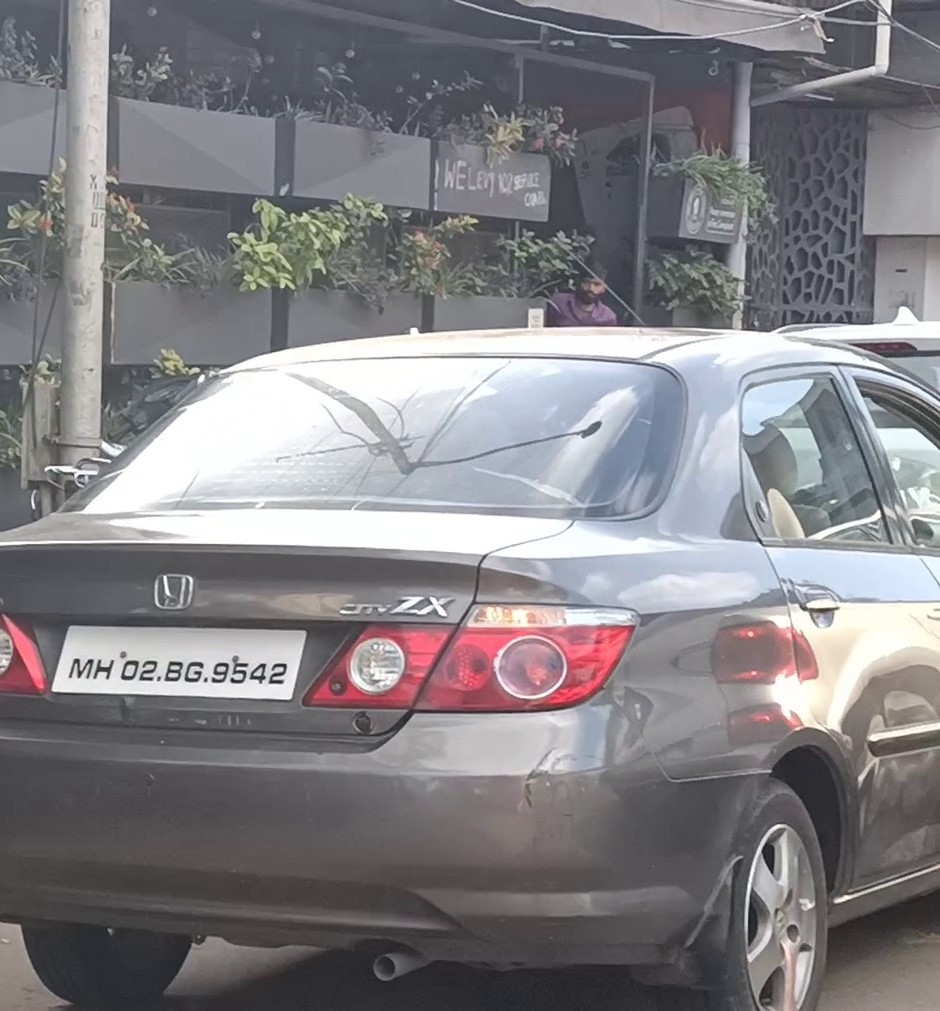MH02BG9542: (49, 624, 306, 699)
